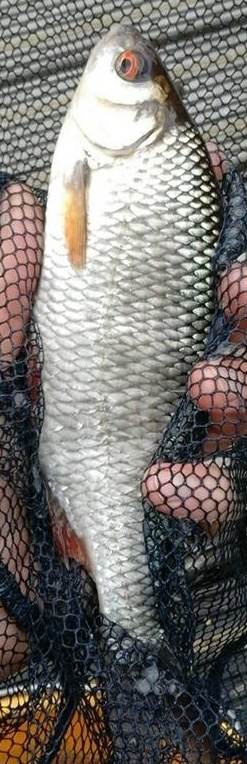Rutilus rutilus: (20, 20, 227, 744)
